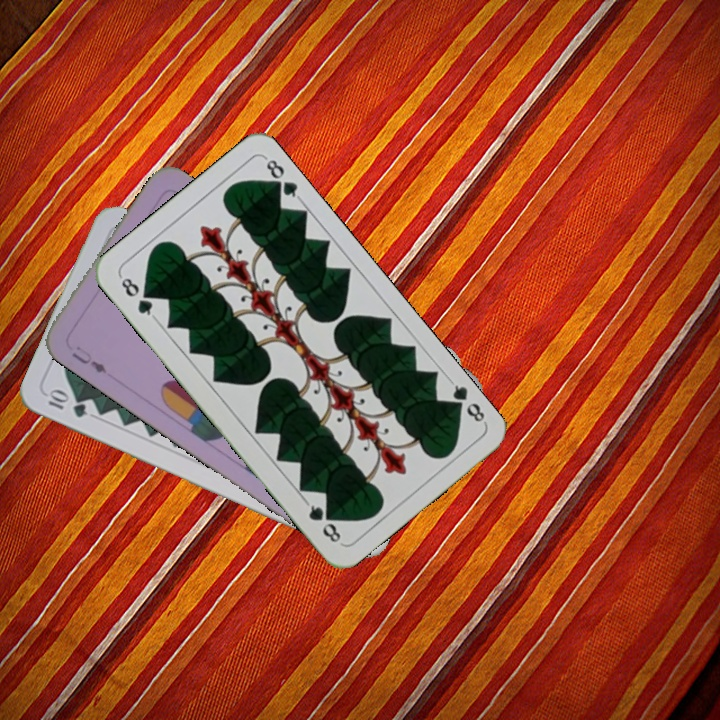EU: (67, 342, 114, 380)
G10: (43, 386, 90, 421)
G8: (444, 376, 490, 427), (116, 272, 158, 321)
